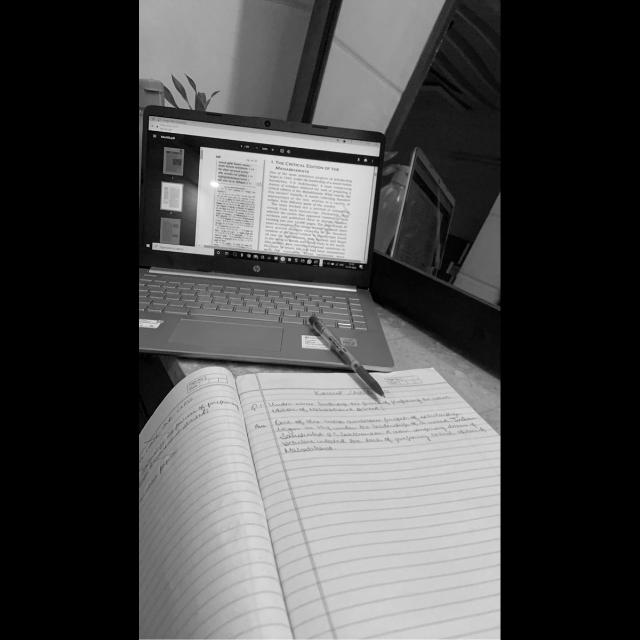laptop: (139, 106, 393, 371)
